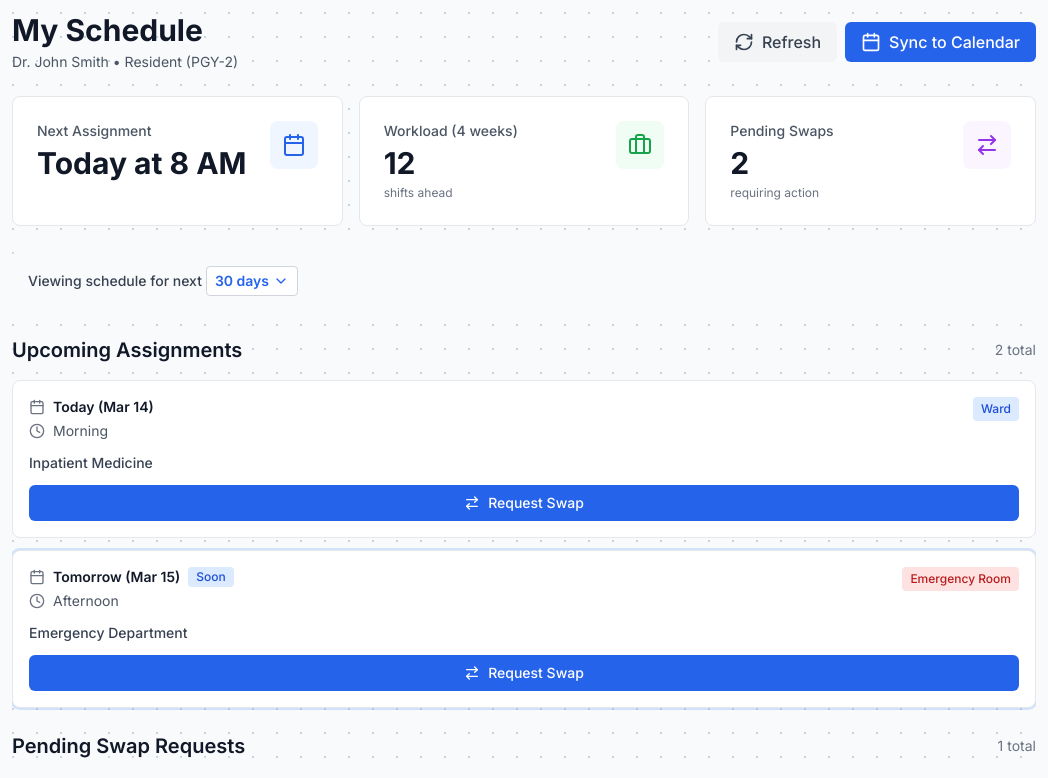
Scenario: MyLifeDashboard › Days Ahead Selector › should close selector after selecting option
Note: Open selector
Click the button "30 days": [252, 281] box [206,266,298,296]
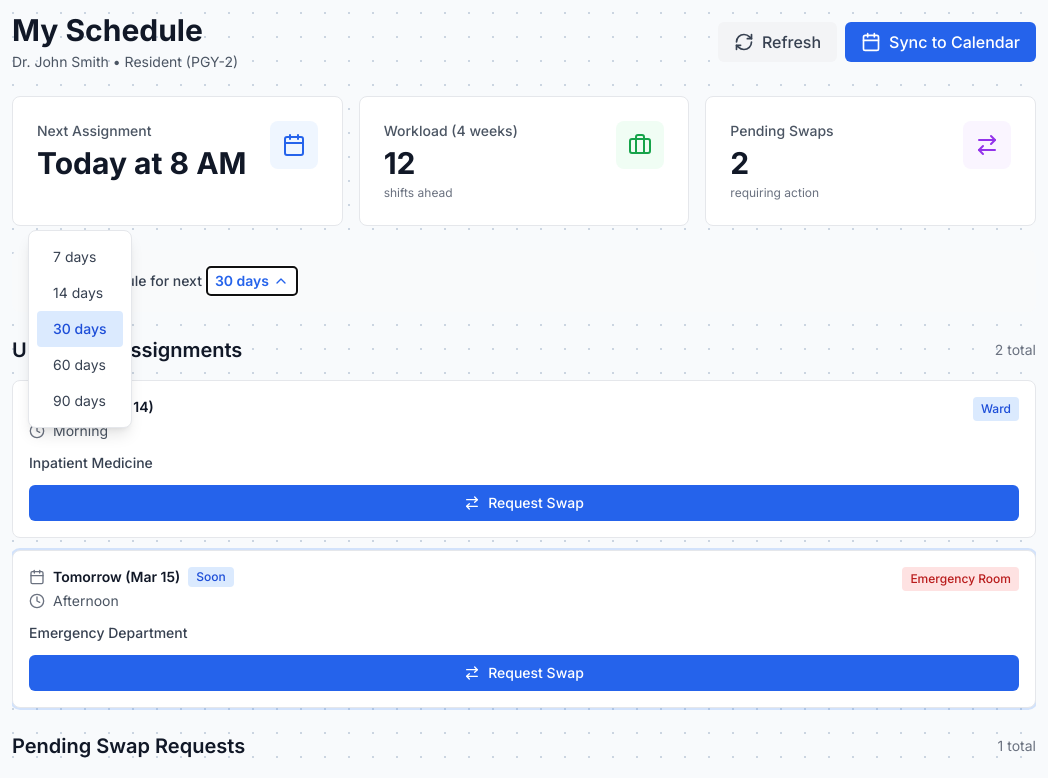
Note: Select option
Click the option "14 days": [80, 293] box [37,275,122,311]
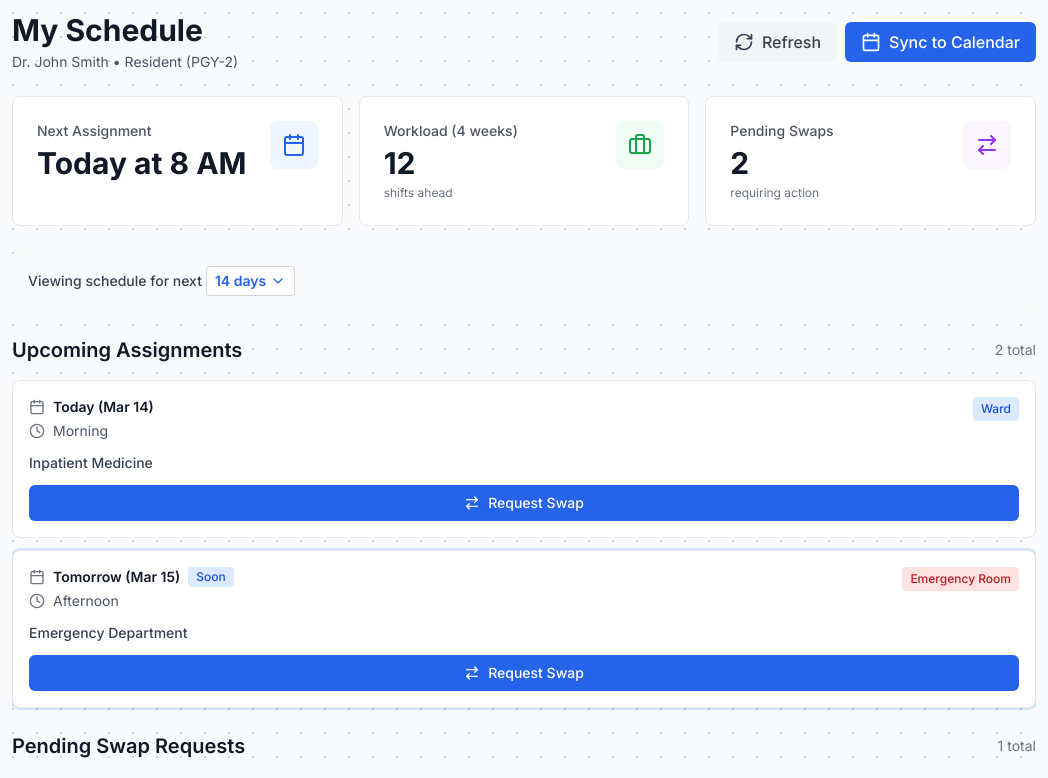
Expected: the option "7 days" is gone
